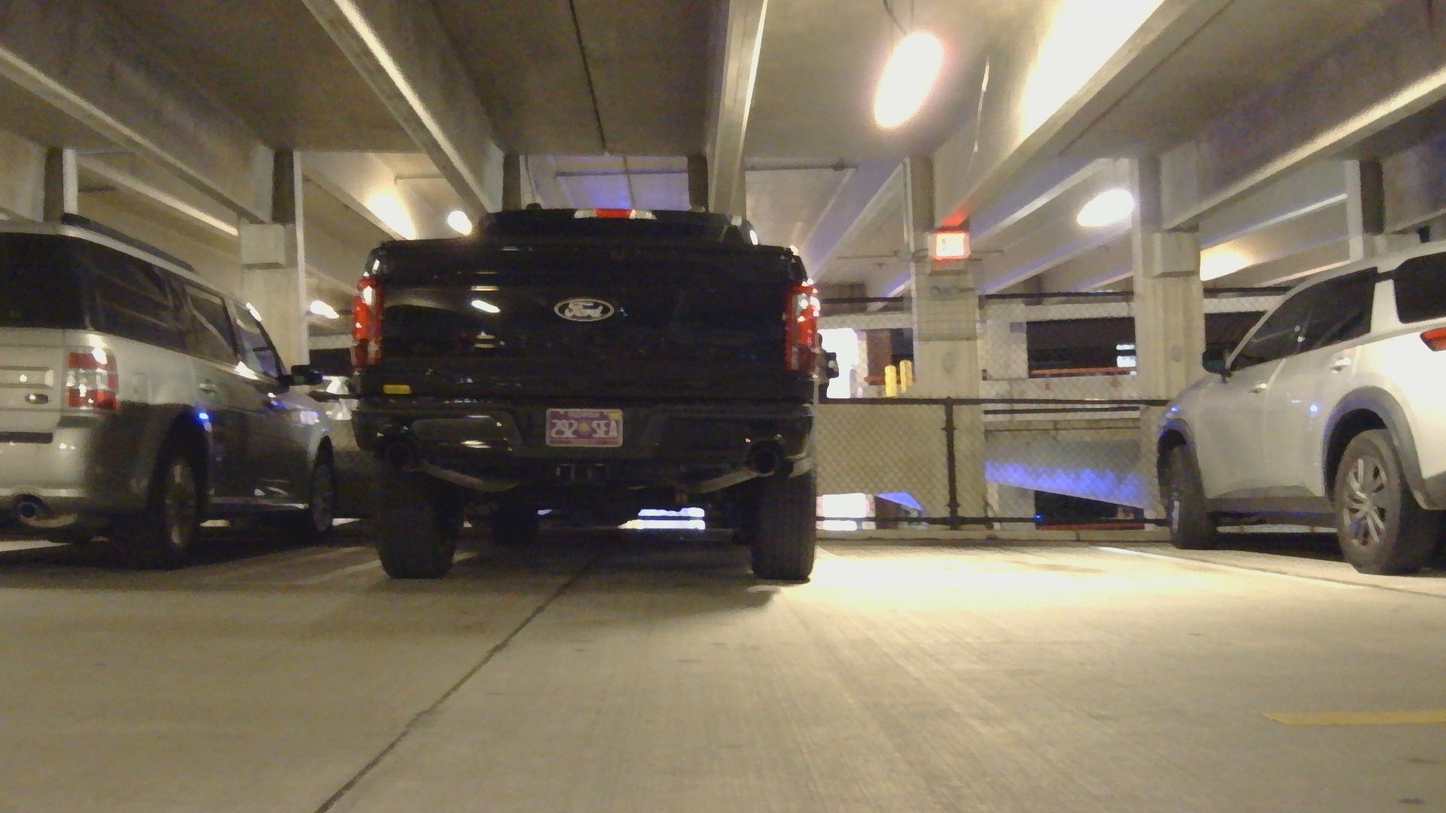empty_spot: (802, 438, 1445, 593)
occupied_spot: (337, 198, 837, 586), (0, 202, 346, 572), (1150, 224, 1445, 592)
